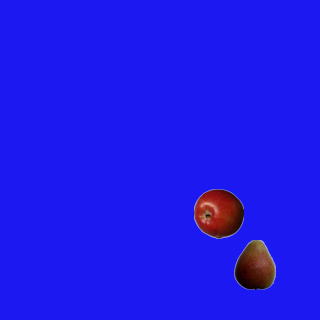Apple Braeburn: (193, 188, 243, 238)
Pear Forelle: (229, 239, 279, 289)
